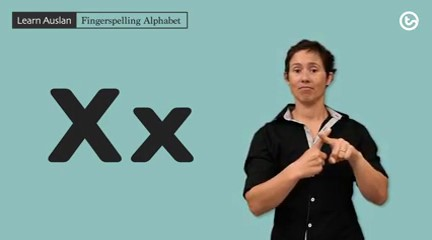X: (295, 123, 359, 183)
